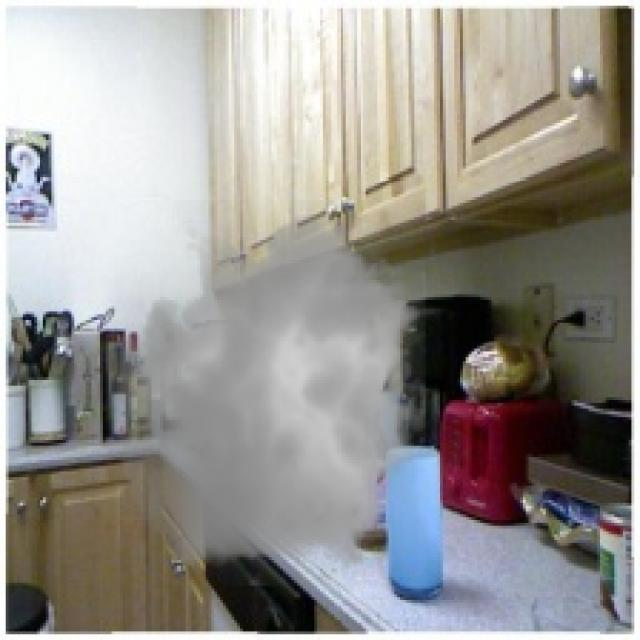smoke: (97, 200, 440, 586)
